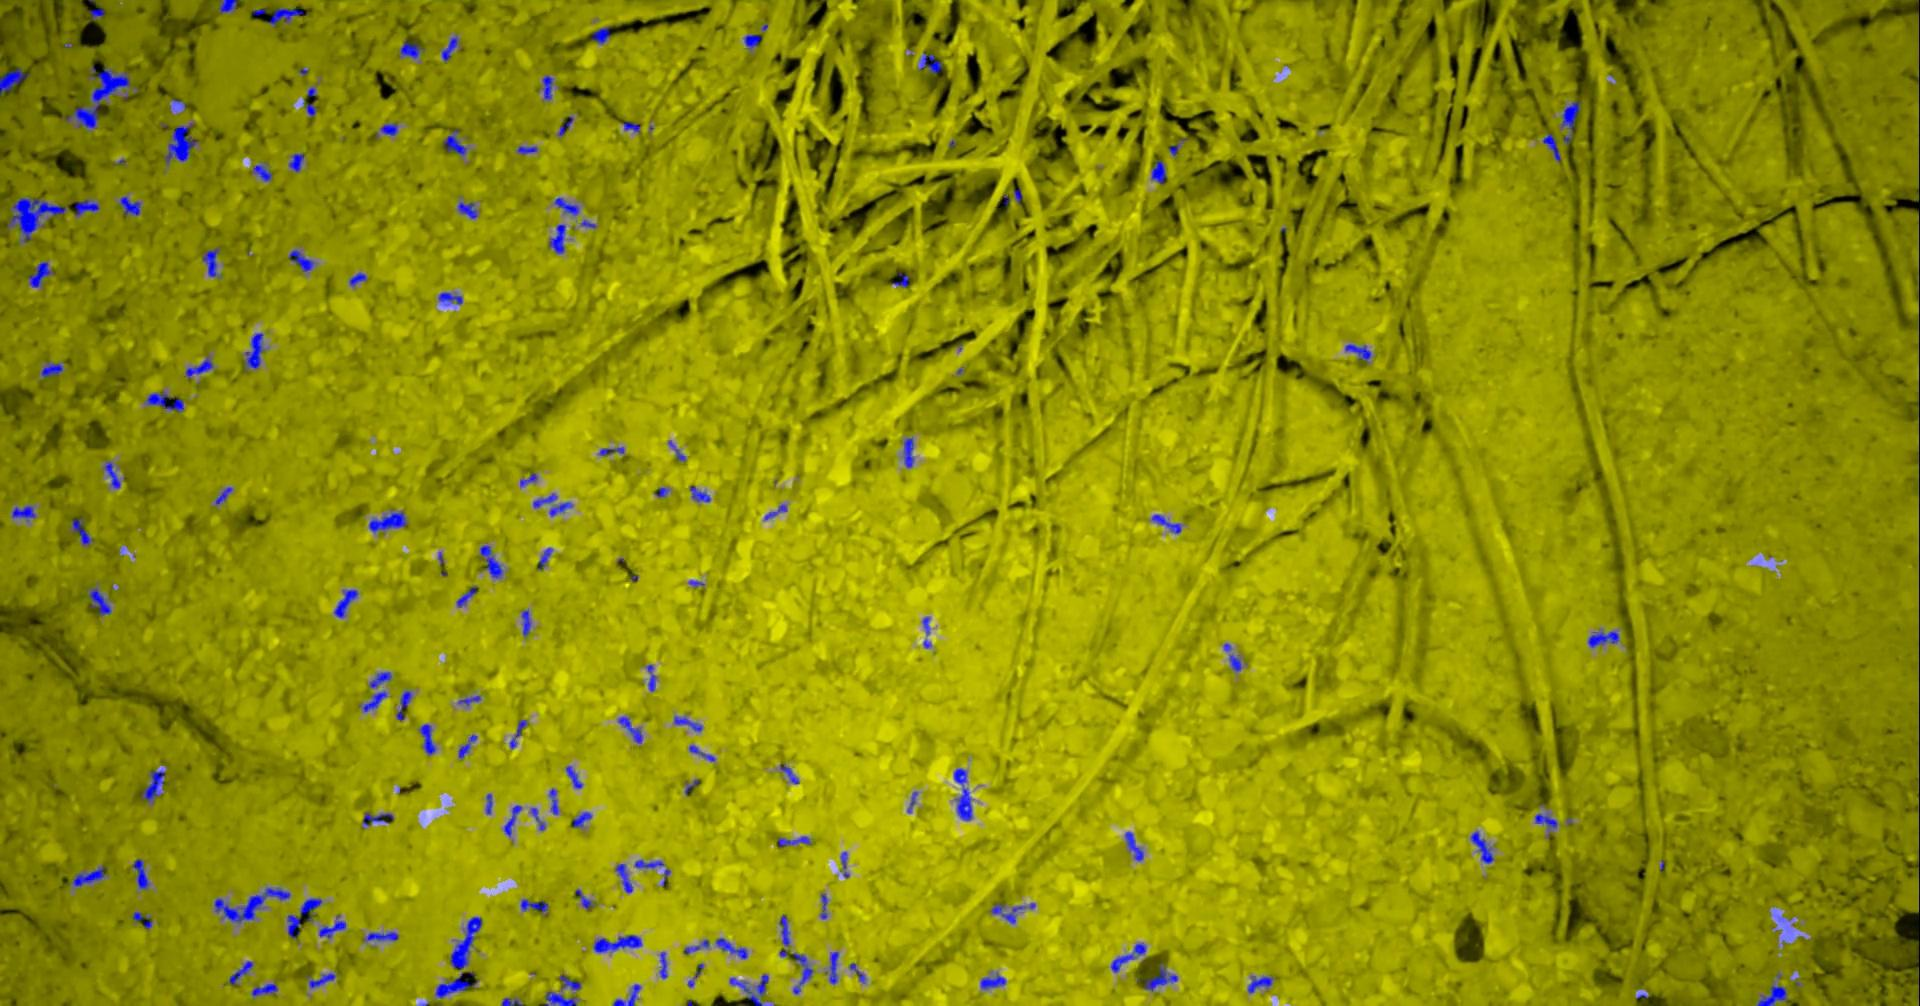ant: (437, 916, 483, 998), (215, 887, 292, 922), (165, 122, 199, 163), (288, 898, 323, 937), (731, 973, 770, 1005), (1112, 942, 1147, 972), (955, 768, 974, 821), (992, 902, 1037, 923), (1145, 962, 1178, 991), (794, 953, 815, 995), (535, 493, 574, 516), (1562, 100, 1582, 144), (594, 934, 643, 951), (370, 511, 408, 532), (1, 67, 30, 94), (245, 332, 265, 370), (147, 391, 185, 412), (142, 770, 166, 801), (74, 864, 107, 887), (481, 545, 504, 577), (1472, 831, 1495, 862), (335, 589, 361, 617), (29, 260, 55, 287), (618, 716, 644, 743), (89, 587, 113, 615), (717, 937, 749, 958), (1757, 984, 1789, 1005), (444, 130, 469, 155), (270, 8, 305, 25), (320, 915, 347, 937), (187, 357, 215, 379), (72, 517, 94, 545), (615, 983, 643, 1005), (230, 960, 254, 984), (204, 246, 223, 277), (1153, 514, 1183, 533), (505, 804, 523, 836), (133, 857, 151, 889), (510, 719, 530, 748), (1126, 831, 1145, 860), (290, 249, 315, 271), (363, 690, 389, 711), (420, 723, 437, 754), (363, 810, 395, 827), (1544, 133, 1562, 163), (550, 224, 568, 253), (1225, 643, 1243, 671), (458, 734, 479, 758), (1346, 343, 1371, 362), (1589, 631, 1620, 647), (72, 199, 102, 216), (617, 862, 634, 892), (545, 991, 579, 1005), (921, 52, 943, 72), (397, 690, 413, 720), (401, 39, 425, 58), (555, 197, 580, 215), (105, 461, 122, 488), (690, 744, 716, 761), (1250, 976, 1274, 993), (781, 915, 791, 956), (443, 36, 460, 61), (982, 973, 1007, 989), (121, 196, 142, 215), (458, 586, 477, 607), (577, 888, 596, 909), (307, 973, 337, 987), (828, 951, 841, 983), (676, 716, 703, 730), (669, 439, 687, 461), (370, 671, 392, 687), (568, 765, 584, 788), (1537, 813, 1559, 829), (684, 939, 711, 953), (1153, 159, 1168, 183), (781, 763, 800, 782), (254, 163, 274, 180), (458, 201, 479, 218), (42, 361, 63, 377), (766, 504, 789, 520), (593, 25, 612, 43), (522, 899, 549, 912), (133, 911, 152, 929), (253, 983, 279, 996), (13, 506, 37, 520), (778, 836, 811, 846), (691, 485, 712, 500), (538, 547, 554, 569), (560, 974, 582, 989), (532, 807, 546, 829), (364, 931, 400, 940), (217, 486, 234, 506), (574, 810, 593, 827), (905, 437, 916, 467), (439, 292, 463, 305), (290, 152, 305, 171), (560, 116, 574, 136), (745, 34, 763, 50), (893, 272, 910, 287), (550, 788, 560, 814), (303, 98, 317, 117), (636, 859, 665, 868), (350, 272, 368, 286), (521, 473, 538, 486), (523, 608, 532, 636), (543, 75, 554, 99), (460, 695, 483, 705), (220, 0, 237, 13), (599, 446, 625, 455), (842, 851, 851, 876), (623, 121, 641, 132), (381, 123, 399, 135), (649, 664, 657, 691), (822, 893, 829, 918), (518, 145, 538, 154), (662, 951, 668, 978), (503, 997, 524, 1005), (91, 8, 105, 19), (488, 793, 493, 814)
